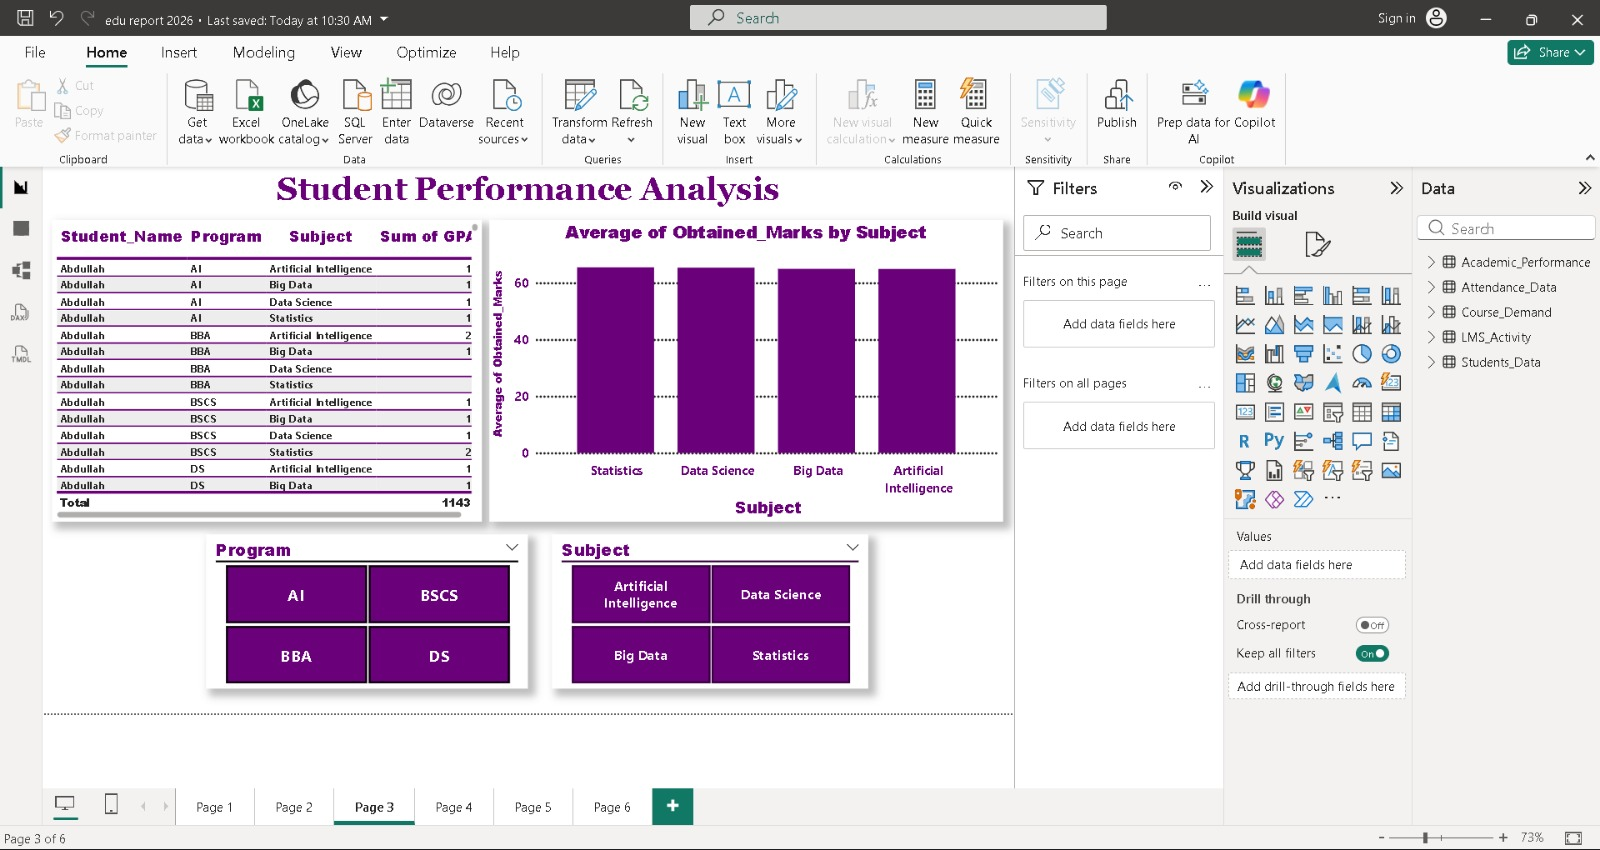

What the dashboard file says about the page in this screenshot:
{"tool":"powerbi","page":{"name":"Page 3","canvas":[1280,720],"ordinal":2},"visuals":[{"type":"textbox","box":[0,0,1280,69.8],"z":0},{"type":"tableEx","fields":{"Values":["Students_Data.Student_Name","Students_Data.Program","Academic_Performance.Subject","Sum(Academic_Performance.GPA)"]},"box":[12.3,70,566.7,397.9],"z":1000},{"type":"clusteredColumnChart","fields":{"Category":["Academic_Performance.Subject"],"Y":["Avg(Academic_Performance.Obtained_Marks)"]},"box":[588.7,70,676.5,397.9],"z":2000},{"type":"slicer","fields":{"Values":["Academic_Performance.Subject"]},"box":[671,484.4,417.2,203.1],"z":3000},{"type":"slicer","fields":{"Values":["Students_Data.Program"]},"box":[215.4,484.4,424,203.1],"z":4000}]}

Visuals, with their boxes on the page's 1280x720 design canvas (x1, y1, x2, y2). These are canvas units, not pixel positions in the 1600x850 screenshot, which may show the page scaled, cropped or inside an application window:
textbox: region(0, 0, 1280, 70)
tableEx - Students_Data.Student_Name x Students_Data.Program: region(12, 70, 579, 468)
clusteredColumnChart - Academic_Performance.Subject x Avg(Academic_Performance.Obtained_Marks): region(589, 70, 1265, 468)
slicer - Academic_Performance.Subject: region(671, 484, 1088, 688)
slicer - Students_Data.Program: region(215, 484, 639, 688)
